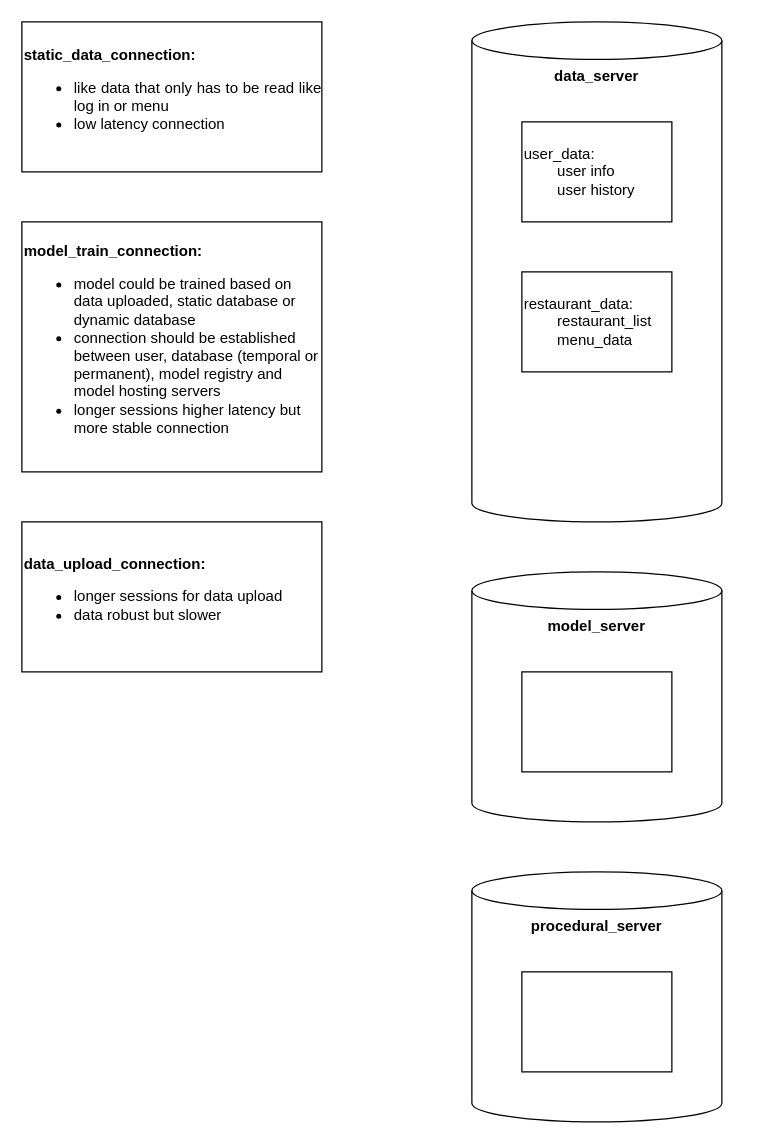
The diagram is 765 pixels wide and 1144 high, and some of its shapes have lost their labels. The shapes that lost their labels are listed below. From the top down, each one's centre as x and y in pixels, then its label:
At (x=596, y=721): "model_registry: model info model log info".
At (x=596, y=1021): "model_training: high computational capacity".
